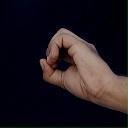hand: (40, 28, 115, 111)
